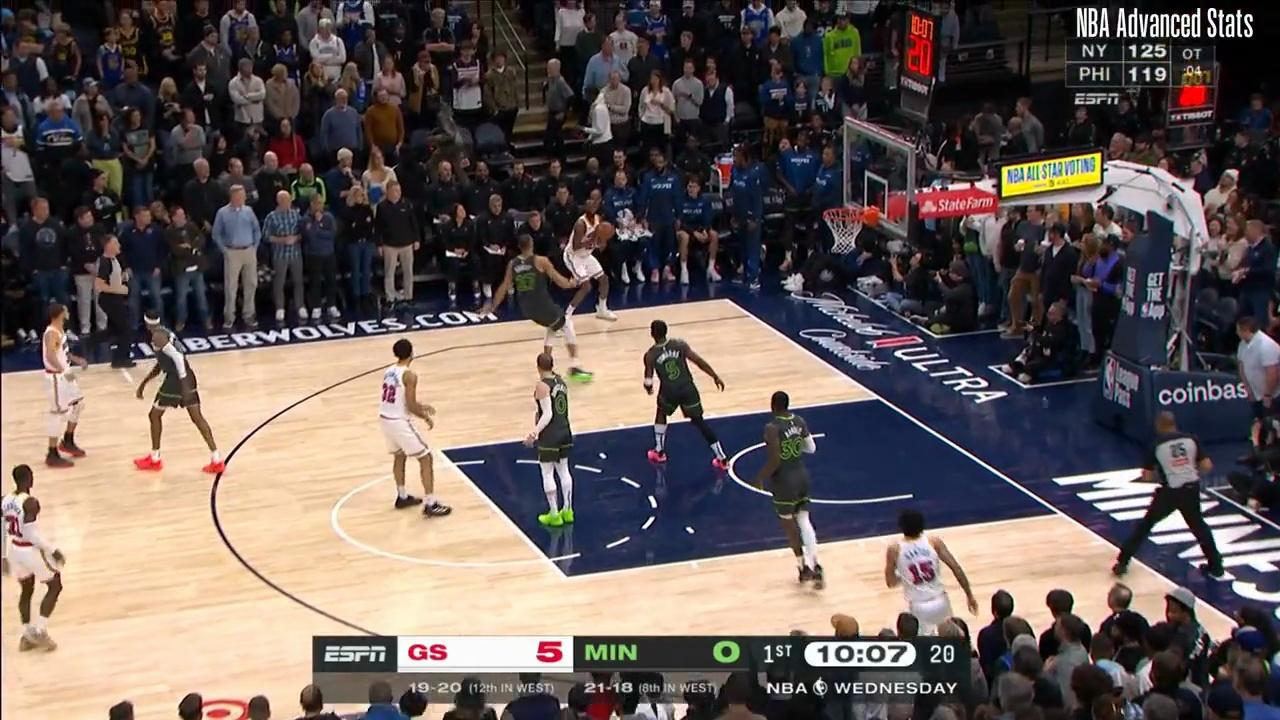basketball: (596, 216, 615, 245)
